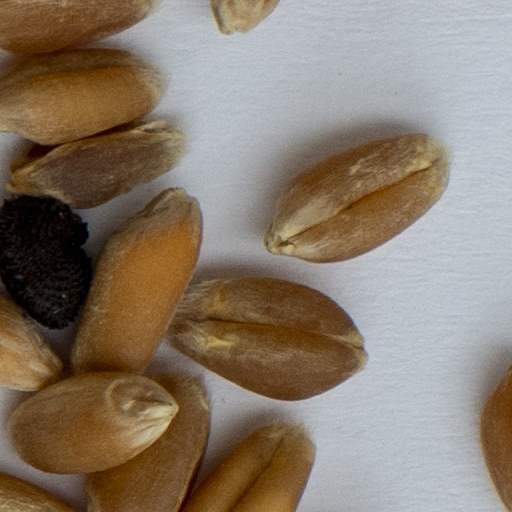Agrostemma-poly: (0, 195, 90, 328)
Wheat-grain-poly: (166, 276, 367, 400), (264, 131, 450, 263), (73, 187, 204, 374), (7, 371, 178, 478), (84, 371, 207, 511), (0, 45, 169, 142), (10, 118, 184, 207), (180, 418, 315, 511), (0, 0, 159, 50), (0, 292, 60, 389), (476, 362, 511, 511), (0, 470, 83, 511), (206, 0, 283, 37)
